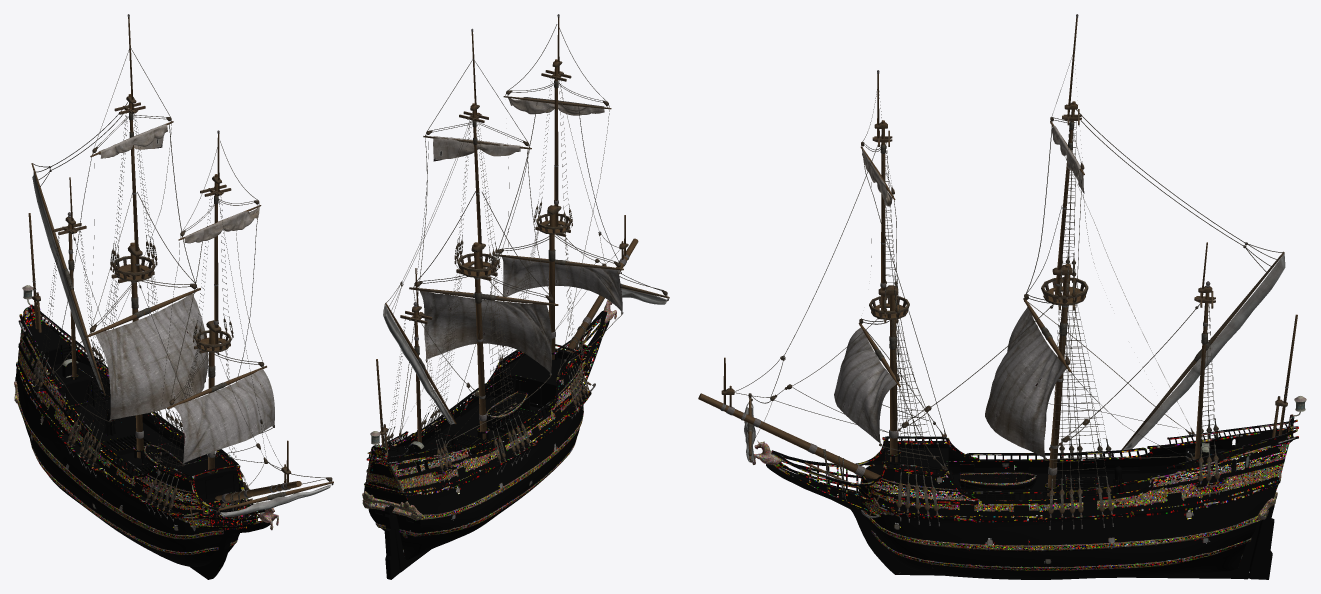
Rendered from dutch-ship-mobile.glb.
The picture shows the model from 3 angles, left to right: view 1: azimuth 30°, elevation 25°; view 2: azimuth 150°, elevation 25°; view 3: azimuth 270°, elevation 25°; orthographic projection. The views are drawn at different scales.
Parts seen in each view (by area): view 1: hull, rigging, sails; view 2: hull, rigging, sails; view 3: hull, rigging, sails.
Part boxes in pixels (x1,y1,x2,y2): hull: (14, 285, 278, 579); rigging: (28, 14, 333, 531); sails: (95, 124, 274, 462); hull: (362, 300, 616, 579); rigging: (376, 14, 669, 482); sails: (420, 97, 622, 372); hull: (752, 396, 1306, 579); rigging: (698, 14, 1297, 529); sails: (834, 126, 1084, 457).
Bounding box in the file's own units: 6.81 × 24.66 × 24.07.
Materials: 3 (3 with a texture image).
